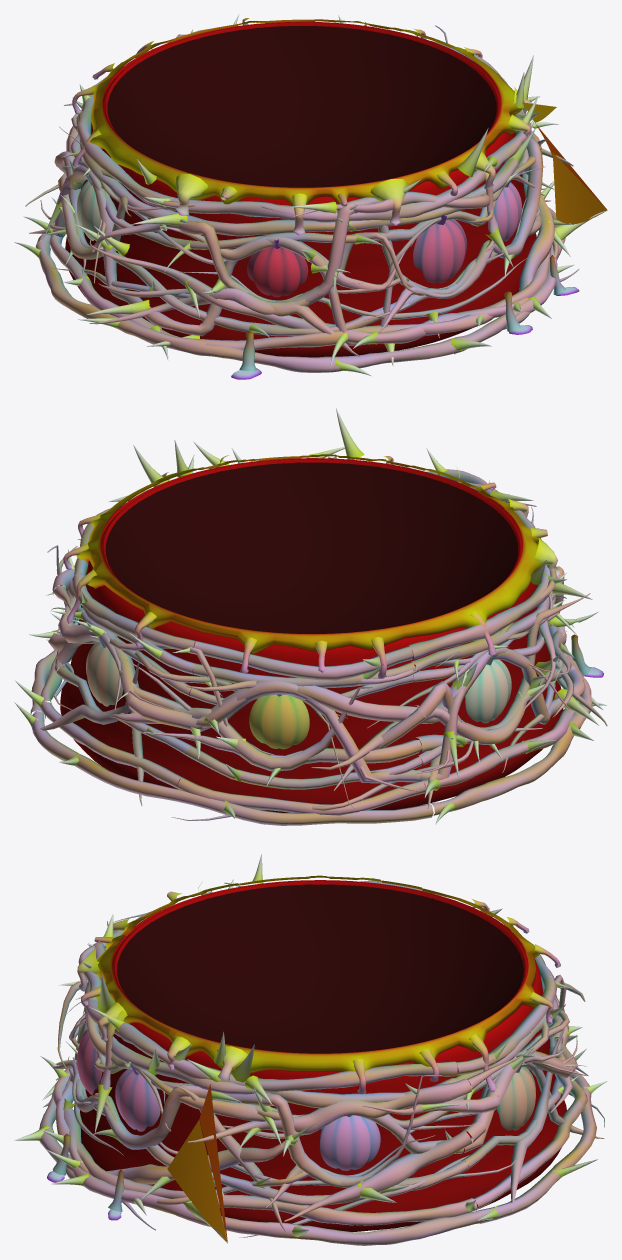
File: base-fall.glb
3 views of the same model, one above another, from view 1: azimuth 30°, elevation 25°; view 2: azimuth 150°, elevation 25°; view 3: azimuth 270°, elevation 25° (orthographic). The views are drawn at different scales.
Parts seen in each view (by area): view 1: iron, wax, pumpkin, web; view 2: iron, wax, pumpkin; view 3: iron, wax, pumpkin, web.
Boxes of the visible parts, x1=… form: iron: x1=14, y1=15, x2=607, y2=376; wax: x1=72, y1=18, x2=579, y2=379; pumpkin: x1=77, y1=174, x2=521, y2=297; web: x1=522, y1=102, x2=607, y2=224; iron: x1=14, y1=408, x2=607, y2=825; wax: x1=63, y1=454, x2=603, y2=678; pumpkin: x1=86, y1=637, x2=511, y2=749; iron: x1=14, y1=854, x2=607, y2=1245; wax: x1=47, y1=875, x2=560, y2=1220; pumpkin: x1=77, y1=1021, x2=535, y2=1170; web: x1=167, y1=1084, x2=227, y2=1242.
Size of the model in its own units: 133 by 48.28 by 129.
